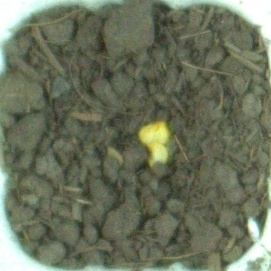chilli seed: (136, 118, 174, 148), (145, 142, 171, 169)
